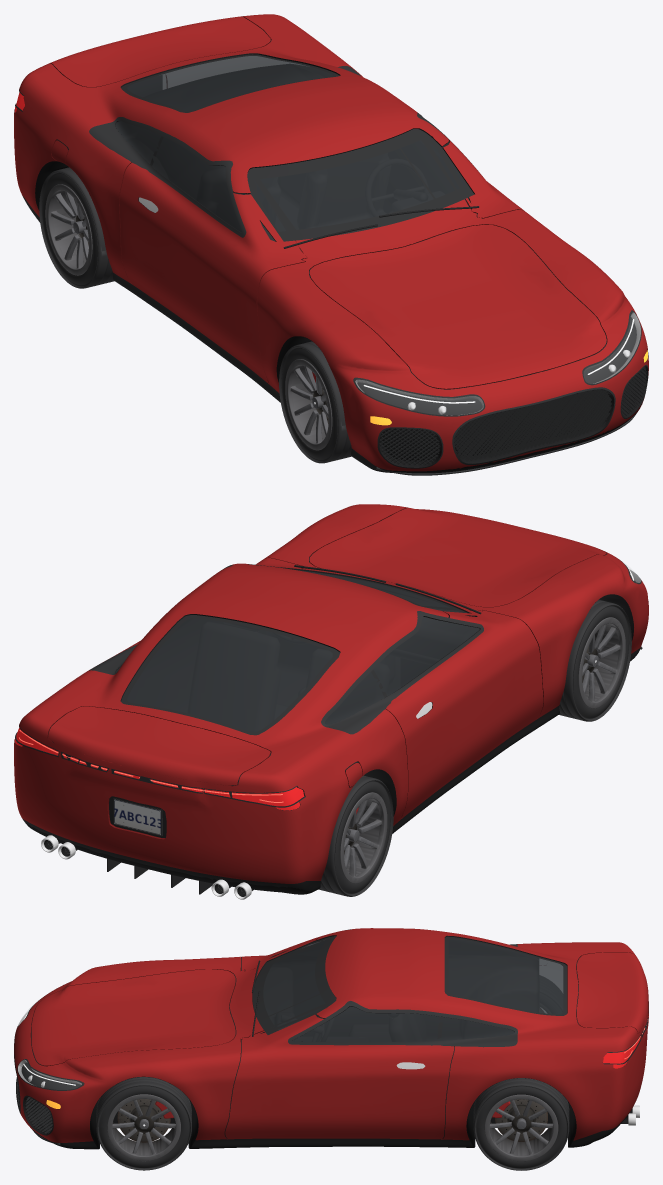
File: car_sports.glb
3 renders of one model, top to bottom at view 1: azimuth 30°, elevation 25°; view 2: azimuth 150°, elevation 25°; view 3: azimuth 270°, elevation 25°, orthographic. The views are drawn at different scales.
Parts seen in each view (by area): view 1: body, wheel_FR, wheel_RR; view 2: body, wheel_FR, wheel_RR; view 3: body, wheel_RL, wheel_FL, wheel_RR.
Boxes of the visible parts, x1,y1,x2,y2 form: body: (14,14,648,475); wheel_FR: (279,341,351,463); wheel_RR: (39,167,114,288); body: (14,504,648,899); wheel_FR: (559,599,631,721); wheel_RR: (318,775,393,896); body: (14,928,648,1149); wheel_RL: (473,1078,569,1170); wheel_FL: (96,1077,191,1170); wheel_RR: (540,976,562,1013).
Bounding box in the file's own units: 1.95 × 1.25 × 4.54.
Materials: 15 (2 with a texture image).
